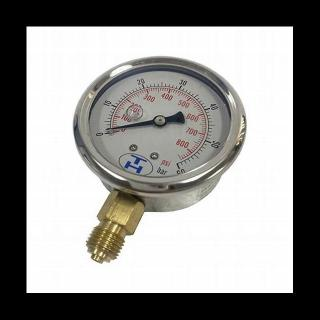gauge: (71, 55, 249, 200), (100, 123, 124, 139), (170, 156, 185, 179), (154, 114, 166, 126), (104, 125, 113, 132)
